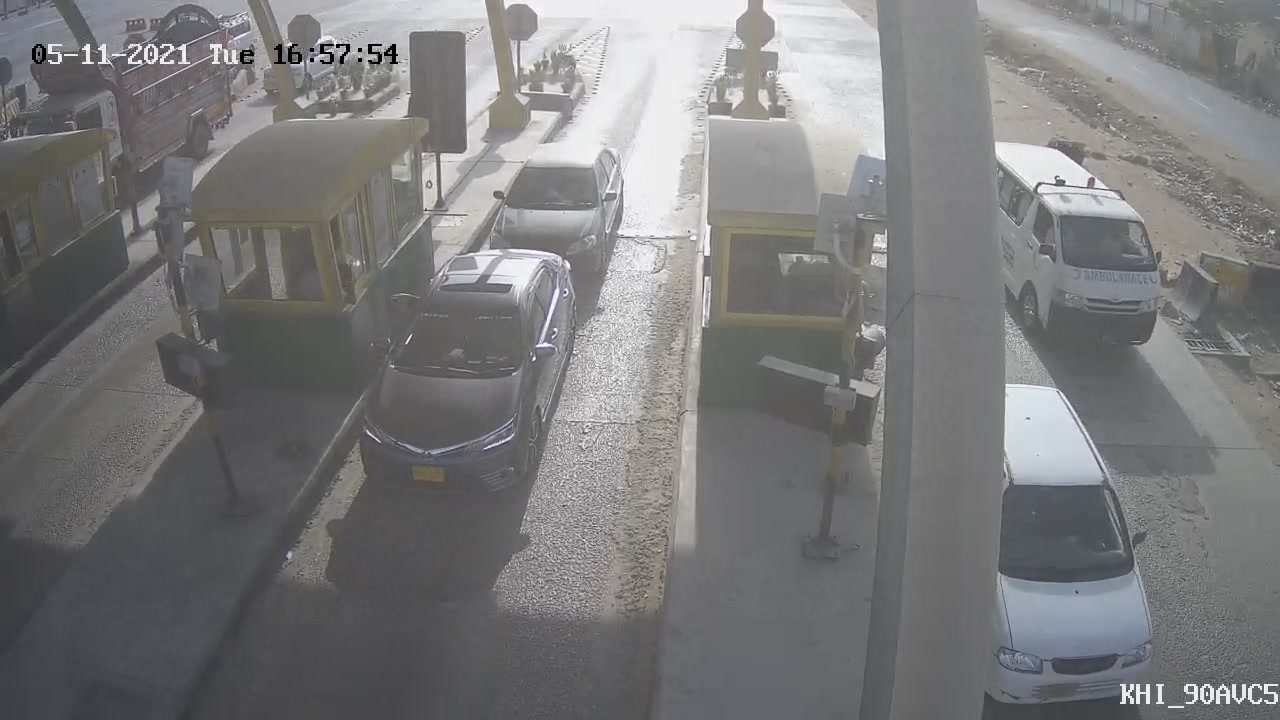F1: (322, 227, 596, 517), (472, 127, 642, 304)
